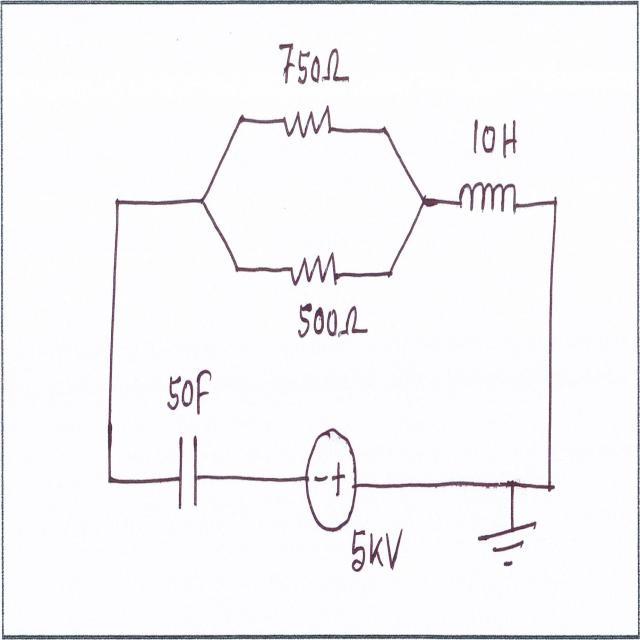capacitor: (174, 426, 206, 516)
ground: (479, 513, 540, 576)
inductor: (452, 171, 522, 224)
resistor: (284, 237, 342, 300), (279, 101, 332, 150)
voltage_source: (301, 420, 360, 536)
